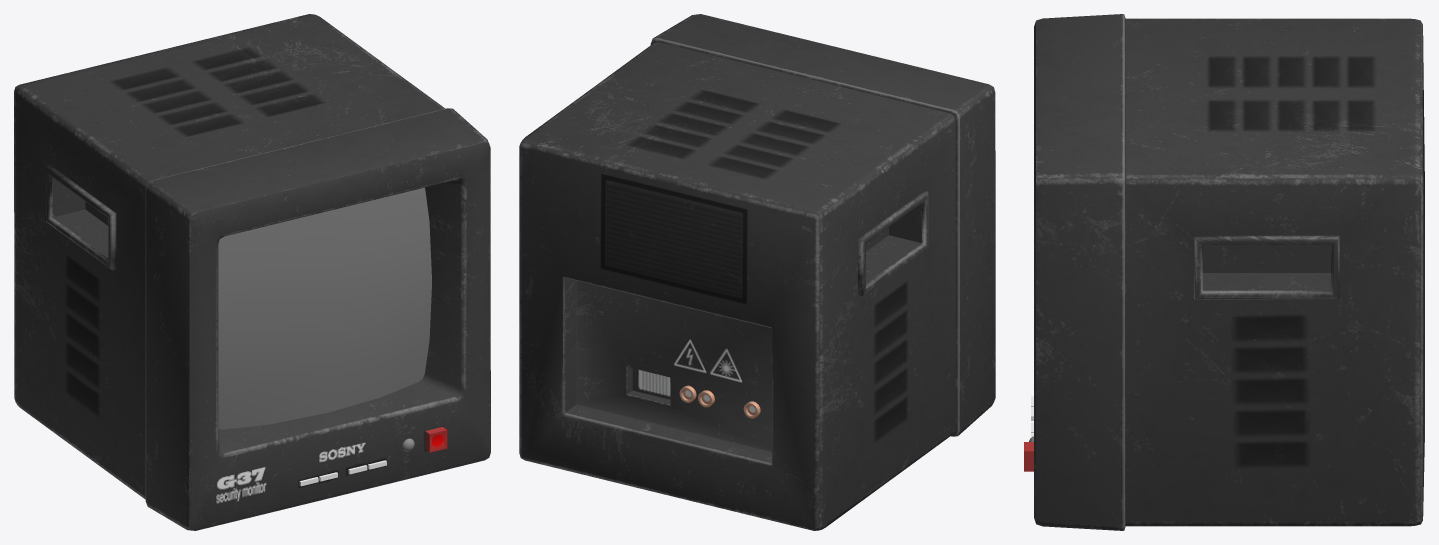
File: security_monitor.glb
3 renders of one model, left to right at view 1: azimuth 30°, elevation 25°; view 2: azimuth 150°, elevation 25°; view 3: azimuth 270°, elevation 25°, orthographic. The views are drawn at different scales.
Visible parts, largest first — view 1: Box003, Plane002; view 2: Box003; view 3: Box003.
Part boxes in pixels (left/top/right/bottom): Box003: left=14, top=14, right=490, bottom=530; Plane002: left=218, top=187, right=431, bottom=429; Box003: left=519, top=14, right=995, bottom=530; Box003: left=1034, top=14, right=1424, bottom=530.
Size of the model in its own units: 1.98 by 1.97 by 2.
Materials: 1 (1 with a texture image).
